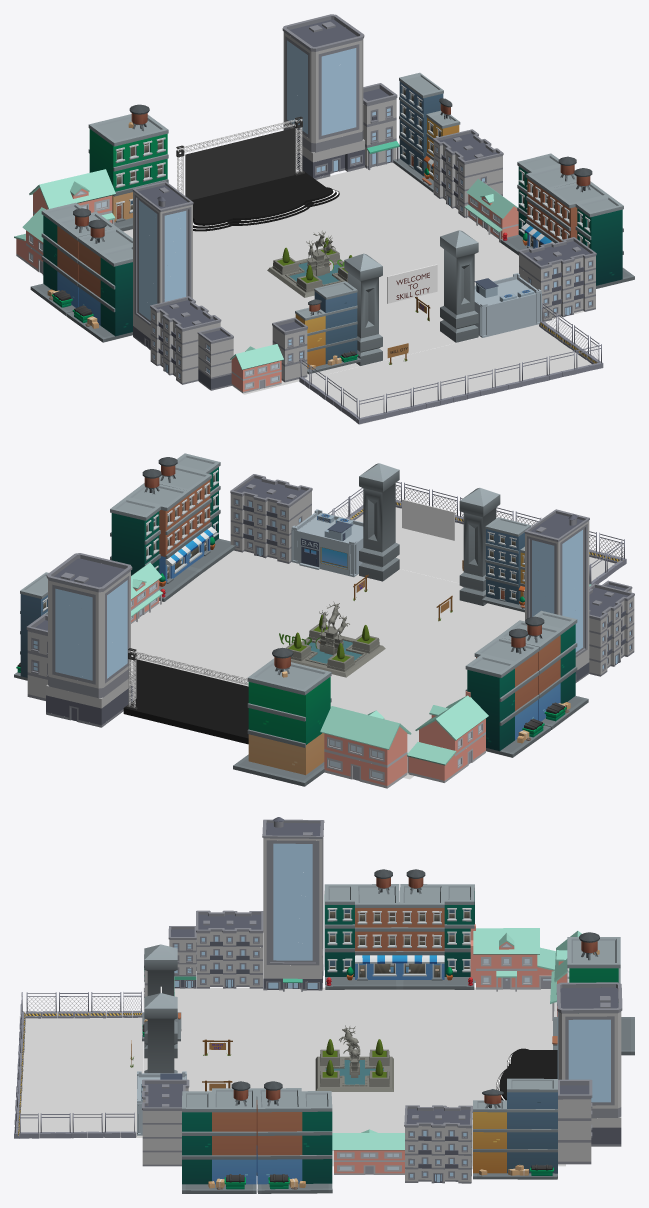
Rendered from skillCity2blendAnim.glb.
3 views of the same model, one above another, from view 1: azimuth 30°, elevation 25°; view 2: azimuth 150°, elevation 25°; view 3: azimuth 270°, elevation 25° (orthographic). The views are drawn at different scales.
Visible parts, largest first — view 1: Plane, Plane.007, stage.001, skyscraperA, skyscraperD, building_D, building_G, building_G.003, large_buildingA, building_H.001, building_G.001, building_H (+15 smaller); view 2: Plane, skyscraperA, building_D, stage.001, skyscraperD, building_G.002, building_G.001, house_type12.003, large_buildingA, house_type08, building_G, building_G.003 (+11 smaller); view 3: Plane, Plane.007, skyscraperD, skyscraperA, building_G, building_H.001, building_G.001, building_G.002, building_G.003, large_buildingA.001, large_buildingA.002, house_type08 (+14 smaller).
Boxes of the visible parts, x1,y1,x2,y2 form: Plane: (123, 162, 584, 394); Plane.007: (307, 324, 591, 424); stage.001: (176, 116, 339, 231); skyscraperA: (282, 14, 364, 179); skyscraperD: (132, 181, 193, 349); building_D: (88, 104, 168, 231); building_G: (66, 219, 132, 342); building_G.003: (543, 168, 634, 288); large_buildingA: (518, 237, 596, 321); building_H.001: (393, 72, 460, 192); building_G.001: (30, 202, 117, 315); building_H: (295, 281, 360, 374); Plane: (131, 550, 524, 779); skyscraperA: (46, 553, 132, 727); building_D: (233, 647, 331, 786); stage.001: (123, 648, 248, 744); skyscraperD: (524, 509, 589, 682); building_G.002: (110, 469, 200, 601); building_G.001: (465, 628, 550, 757); house_type12.003: (320, 706, 411, 788); large_buildingA: (230, 474, 312, 563); house_type08: (407, 691, 488, 782); building_G: (498, 610, 588, 729); building_G.003: (158, 453, 235, 573); Plane: (143, 987, 565, 1166); Plane.007: (19, 1016, 143, 1137); skyscraperD: (262, 817, 324, 991); skyscraperA: (556, 982, 622, 1146); building_G: (324, 869, 399, 989); building_H.001: (473, 1078, 557, 1179); building_G.001: (399, 869, 474, 989); building_G.002: (257, 1081, 332, 1193); building_G.003: (182, 1081, 256, 1193); large_buildingA.001: (404, 1105, 472, 1183); large_buildingA.002: (196, 910, 263, 988); house_type08: (470, 924, 555, 991).
Size of the model in its own units: 66.09 by 21.08 by 73.53.
Materials: 71 (6 with a texture image).
